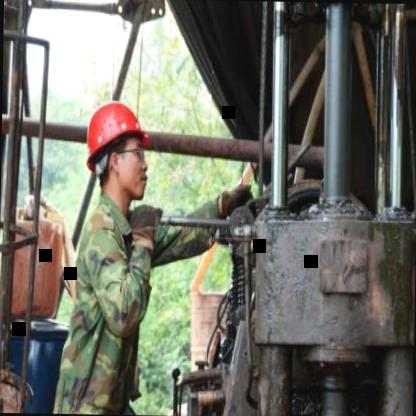helmet: (77, 89, 154, 207)
